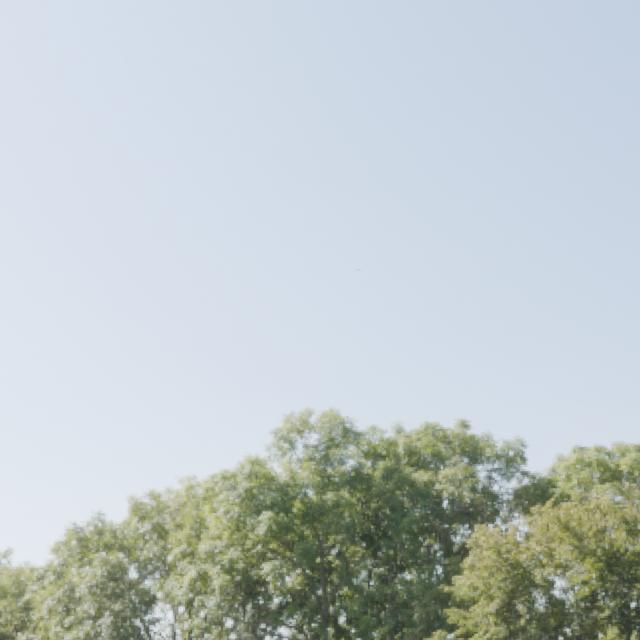Airaplan: (351, 268, 364, 271)
